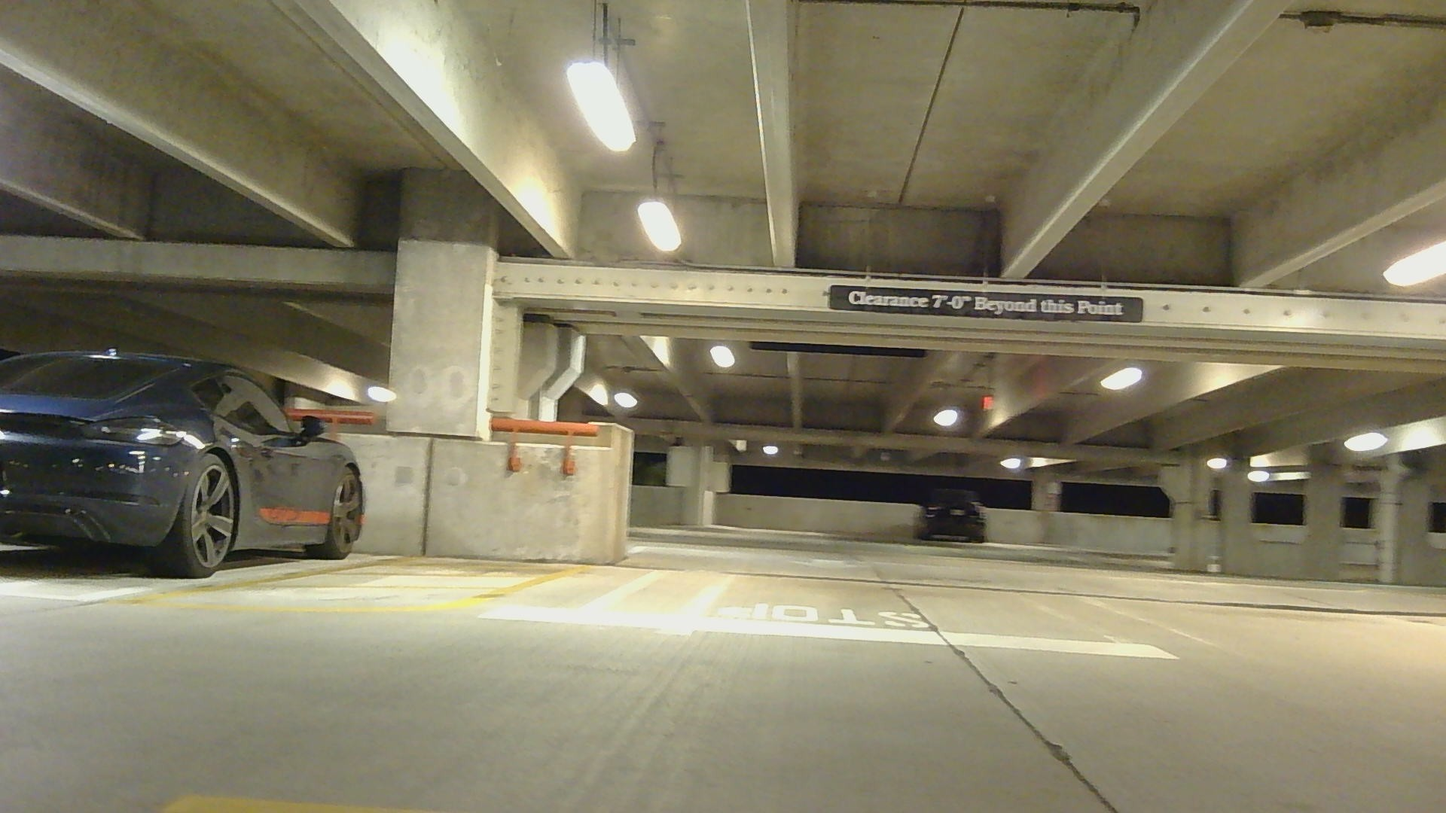occupied_spot: (1, 343, 376, 589)
